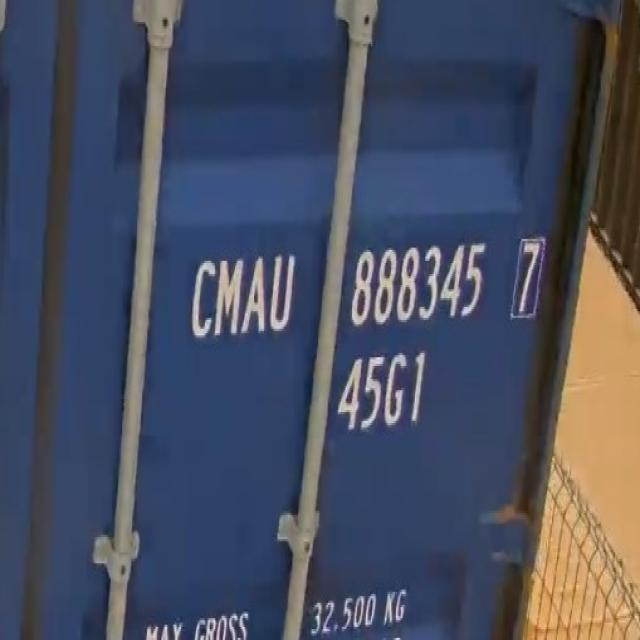dv: (510, 230, 548, 329)
owner: (186, 250, 299, 347)
serial: (346, 239, 489, 332)
size: (334, 347, 428, 437)
